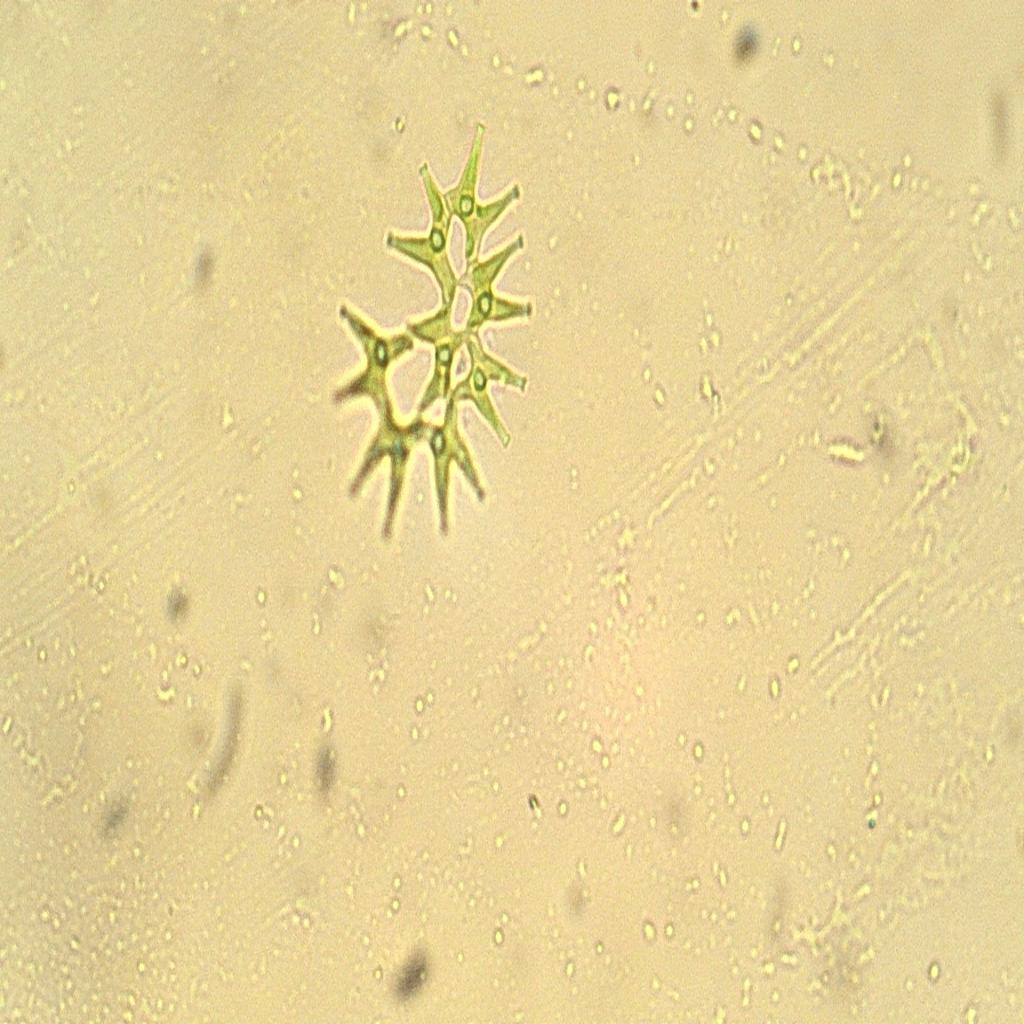Pediastrum_CFI: (320, 113, 540, 558)
